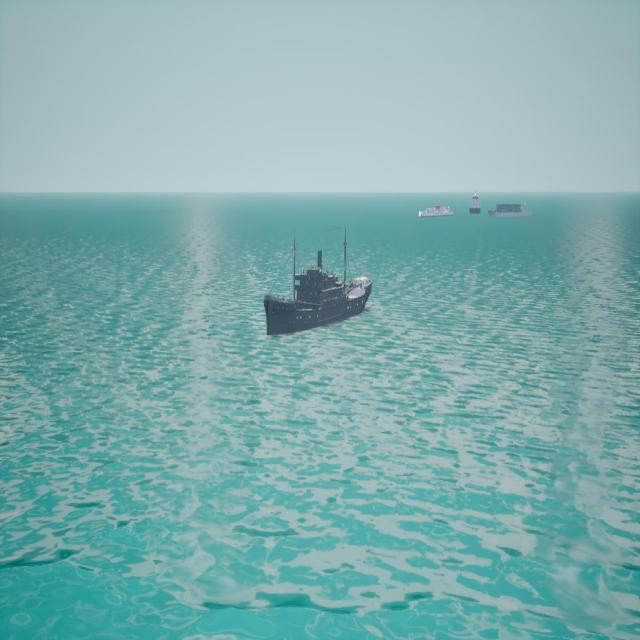fishing ship: (263, 228, 374, 339), (490, 203, 531, 220), (421, 205, 457, 219)
